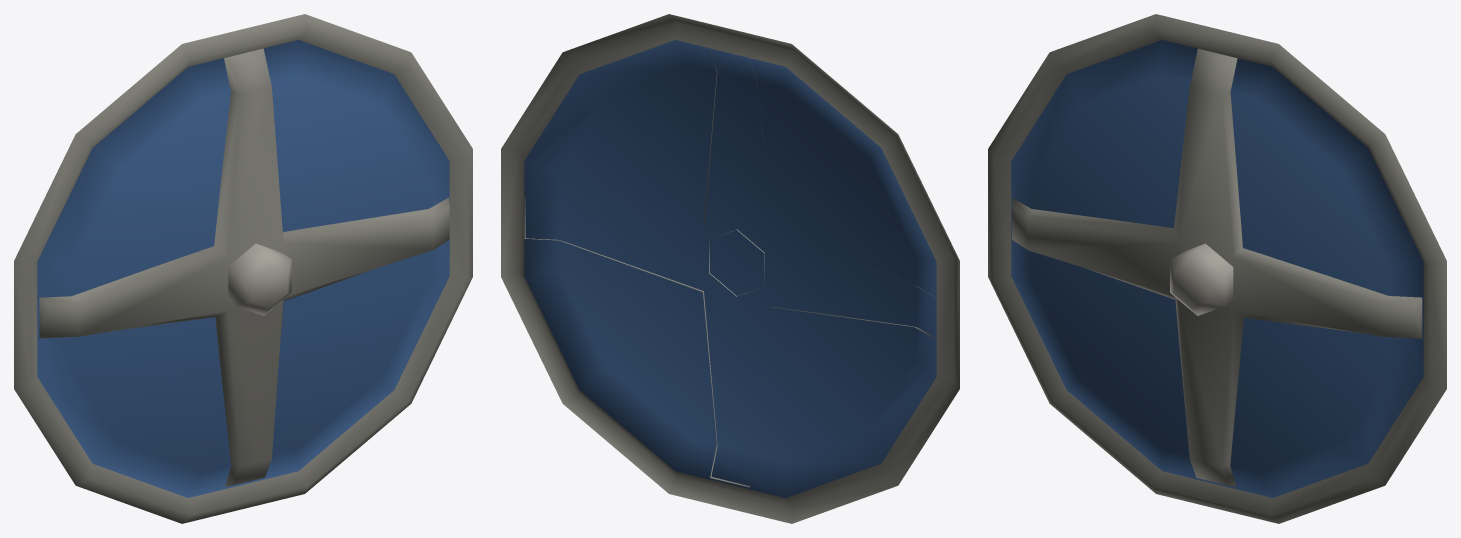
File: rpgpp_ag_shield_wall_06.fbx
The picture shows the model from 3 angles, left to right: view 1: azimuth 30°, elevation 25°; view 2: azimuth 150°, elevation 25°; view 3: azimuth 330°, elevation 25°; orthographic projection.
Parts seen in each view (by area): view 1: rpgpp_ag_shield_wall_06; view 2: rpgpp_ag_shield_wall_06; view 3: rpgpp_ag_shield_wall_06.
Boxes of the visible parts, x1,y1,x2,y2 form: rpgpp_ag_shield_wall_06: (14, 14, 472, 523); rpgpp_ag_shield_wall_06: (501, 14, 959, 523); rpgpp_ag_shield_wall_06: (988, 14, 1446, 523).
Bounding box in the file's own units: 0.9659 × 0.9659 × 0.0969.
